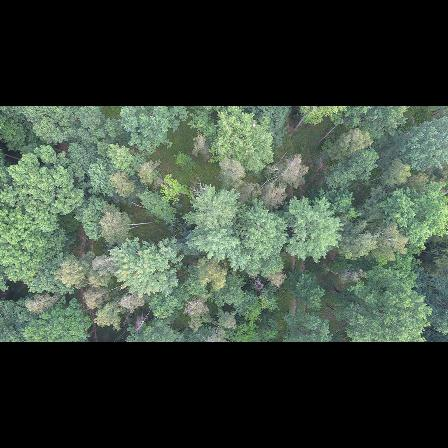Dead: (180, 296, 206, 316)
